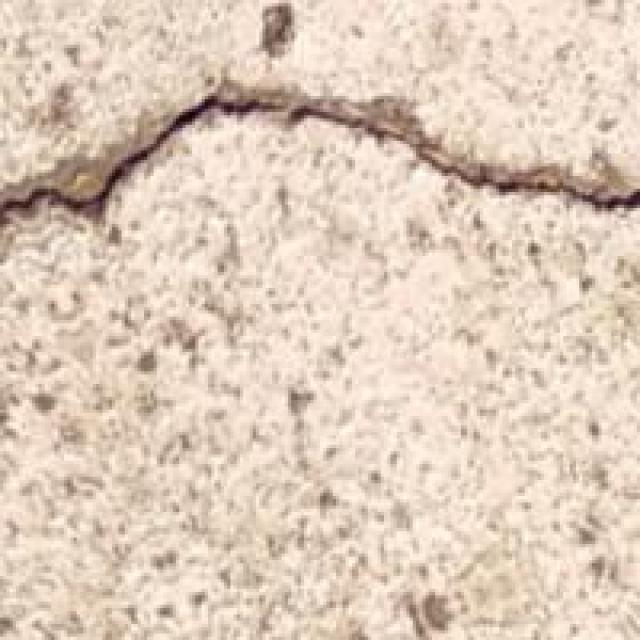Crack: (0, 51, 637, 301)
